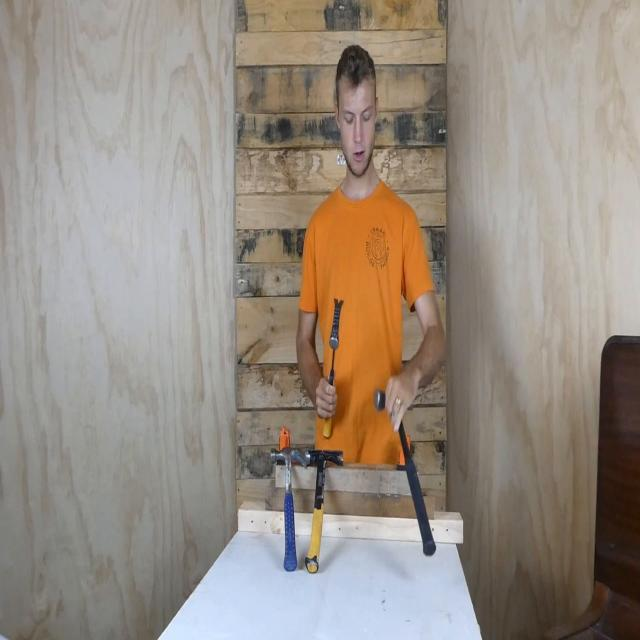hammer: (374, 388, 436, 557), (305, 448, 344, 575), (270, 445, 309, 571), (321, 298, 344, 438)
